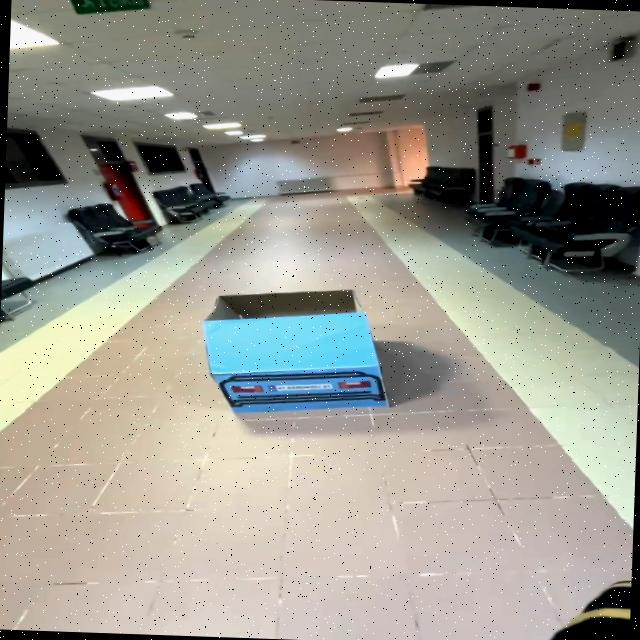blue_car: (177, 275, 418, 446)
